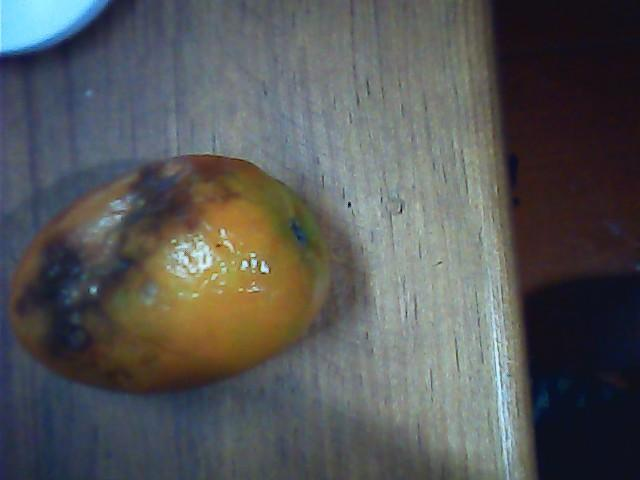defectuoso: (3, 156, 333, 394)
